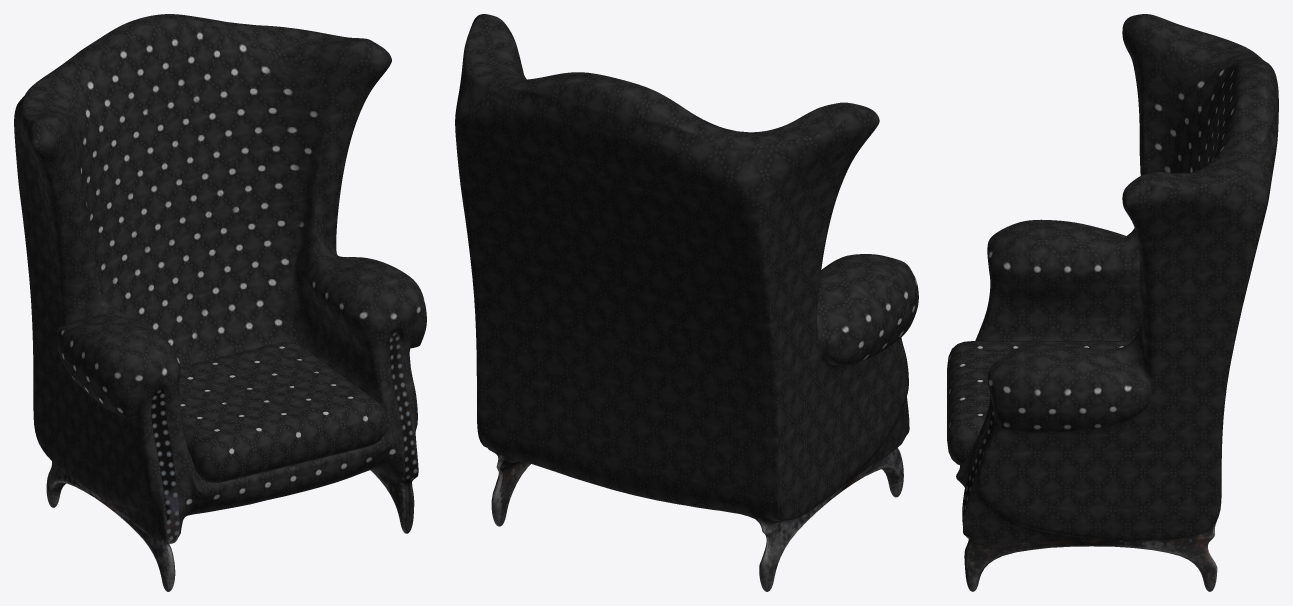
File: gothic_chair.glb
3 views of the same model, side by side, from view 1: azimuth 30°, elevation 25°; view 2: azimuth 150°, elevation 25°; view 3: azimuth 270°, elevation 25° (orthographic). The views are drawn at different scales.
Parts seen in each view (by area): view 1: chair, cushion; view 2: chair; view 3: chair, cushion.
Part boxes in pixels (left/top/right/bottom): chair: left=14, top=14, right=426, bottom=591; cushion: left=179, top=342, right=387, bottom=482; chair: left=455, top=14, right=918, bottom=591; chair: left=956, top=14, right=1278, bottom=591; cushion: left=947, top=341, right=1131, bottom=465.
Bounding box in the file's own units: 1.32 × 1.56 × 1.02.
3 materials, 3 textured.
